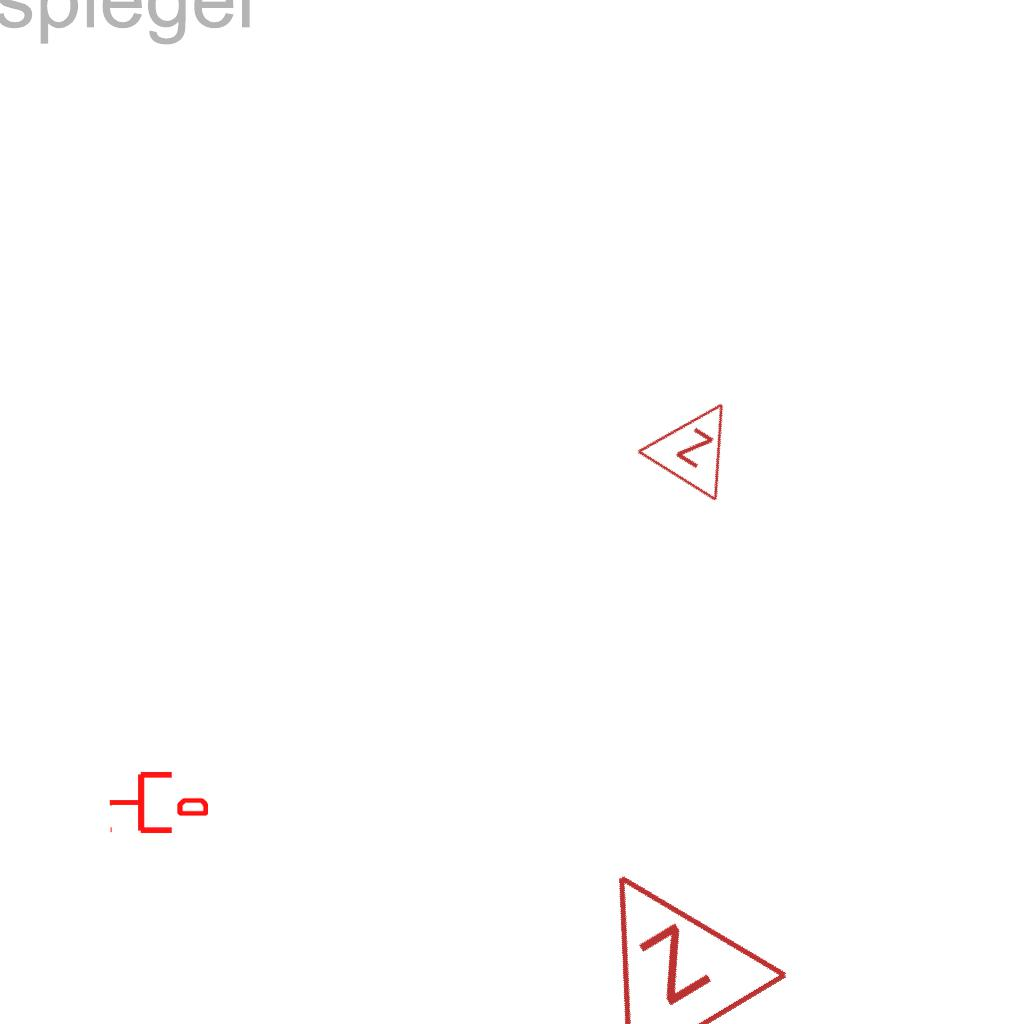Datenanschluss_einfach: (108, 768, 208, 837)
Zimmersignalleuchte: (527, 815, 799, 1024), (629, 371, 767, 509)
